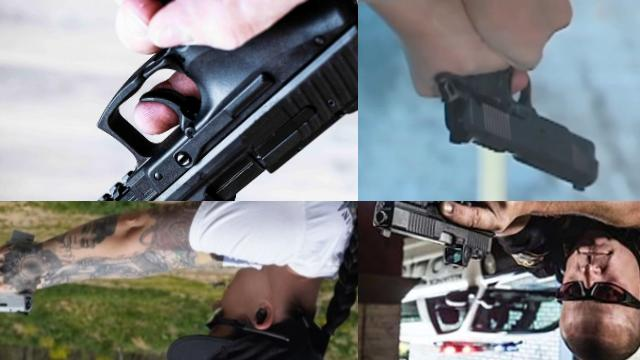handgun: (71, 0, 358, 201), (424, 38, 606, 193), (364, 201, 511, 273), (0, 222, 51, 320), (358, 201, 407, 277)
